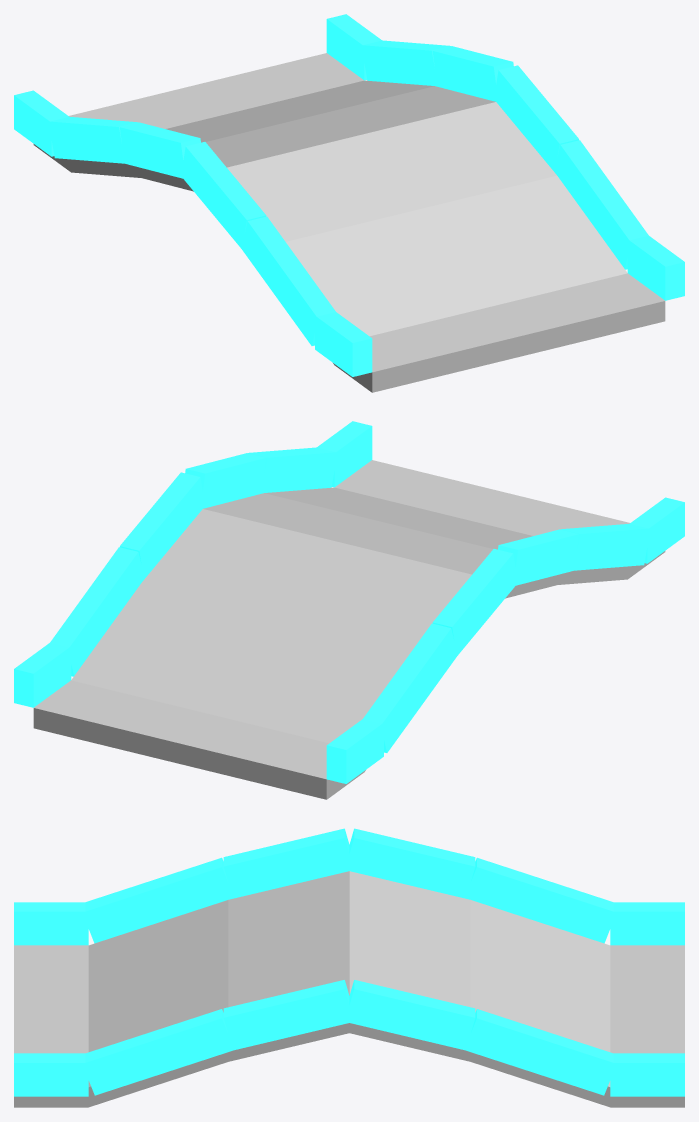
3 renders of one model, top to bottom at view 1: azimuth 30°, elevation 25°; view 2: azimuth 150°, elevation 25°; view 3: azimuth 270°, elevation 25°, orthographic.
Visible parts, largest first — view 1: Neon_BankRamp_Simple; view 2: Neon_BankRamp_Simple; view 3: Neon_BankRamp_Simple.
Part boxes in pixels (x1,y1,x2,y2): Neon_BankRamp_Simple: (14, 14, 684, 392); Neon_BankRamp_Simple: (14, 421, 684, 799); Neon_BankRamp_Simple: (14, 828, 684, 1107).
Size of the model in its own units: 2.04 by 0.7567 by 3.6.
